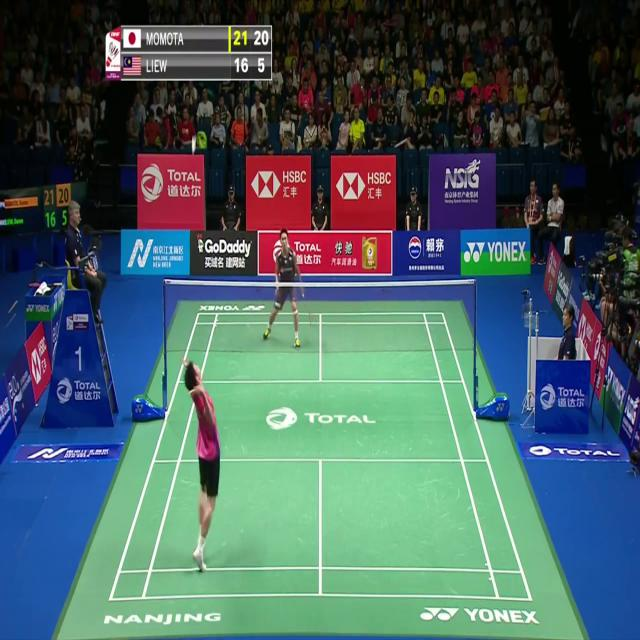Shuttlecock: (190, 138, 196, 150)
